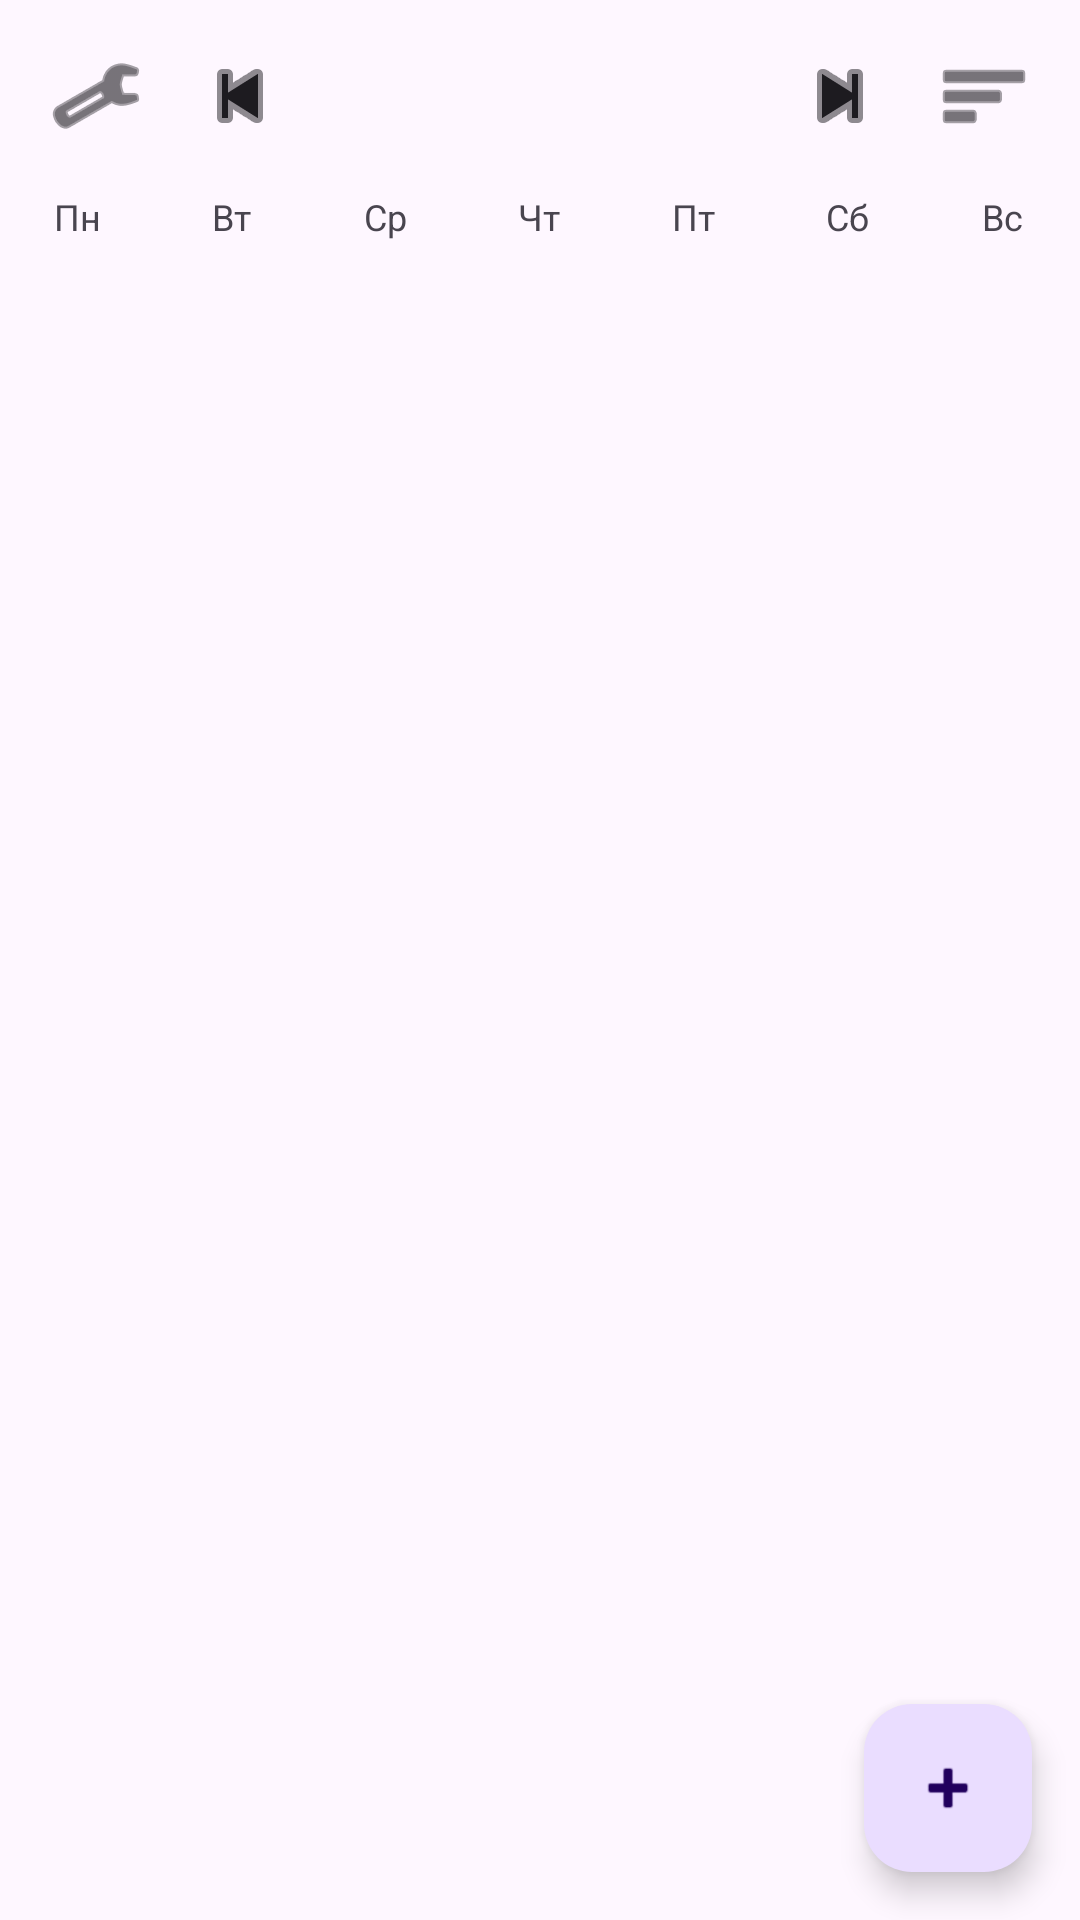

Point at icon controls on the screen. Image size 1080*1920, points as point (x, y).
next: point (840, 96)
preferences: point (96, 96)
previous: point (240, 96)
sort by size: point (984, 96)
Добавить задачу: point (948, 1788)
